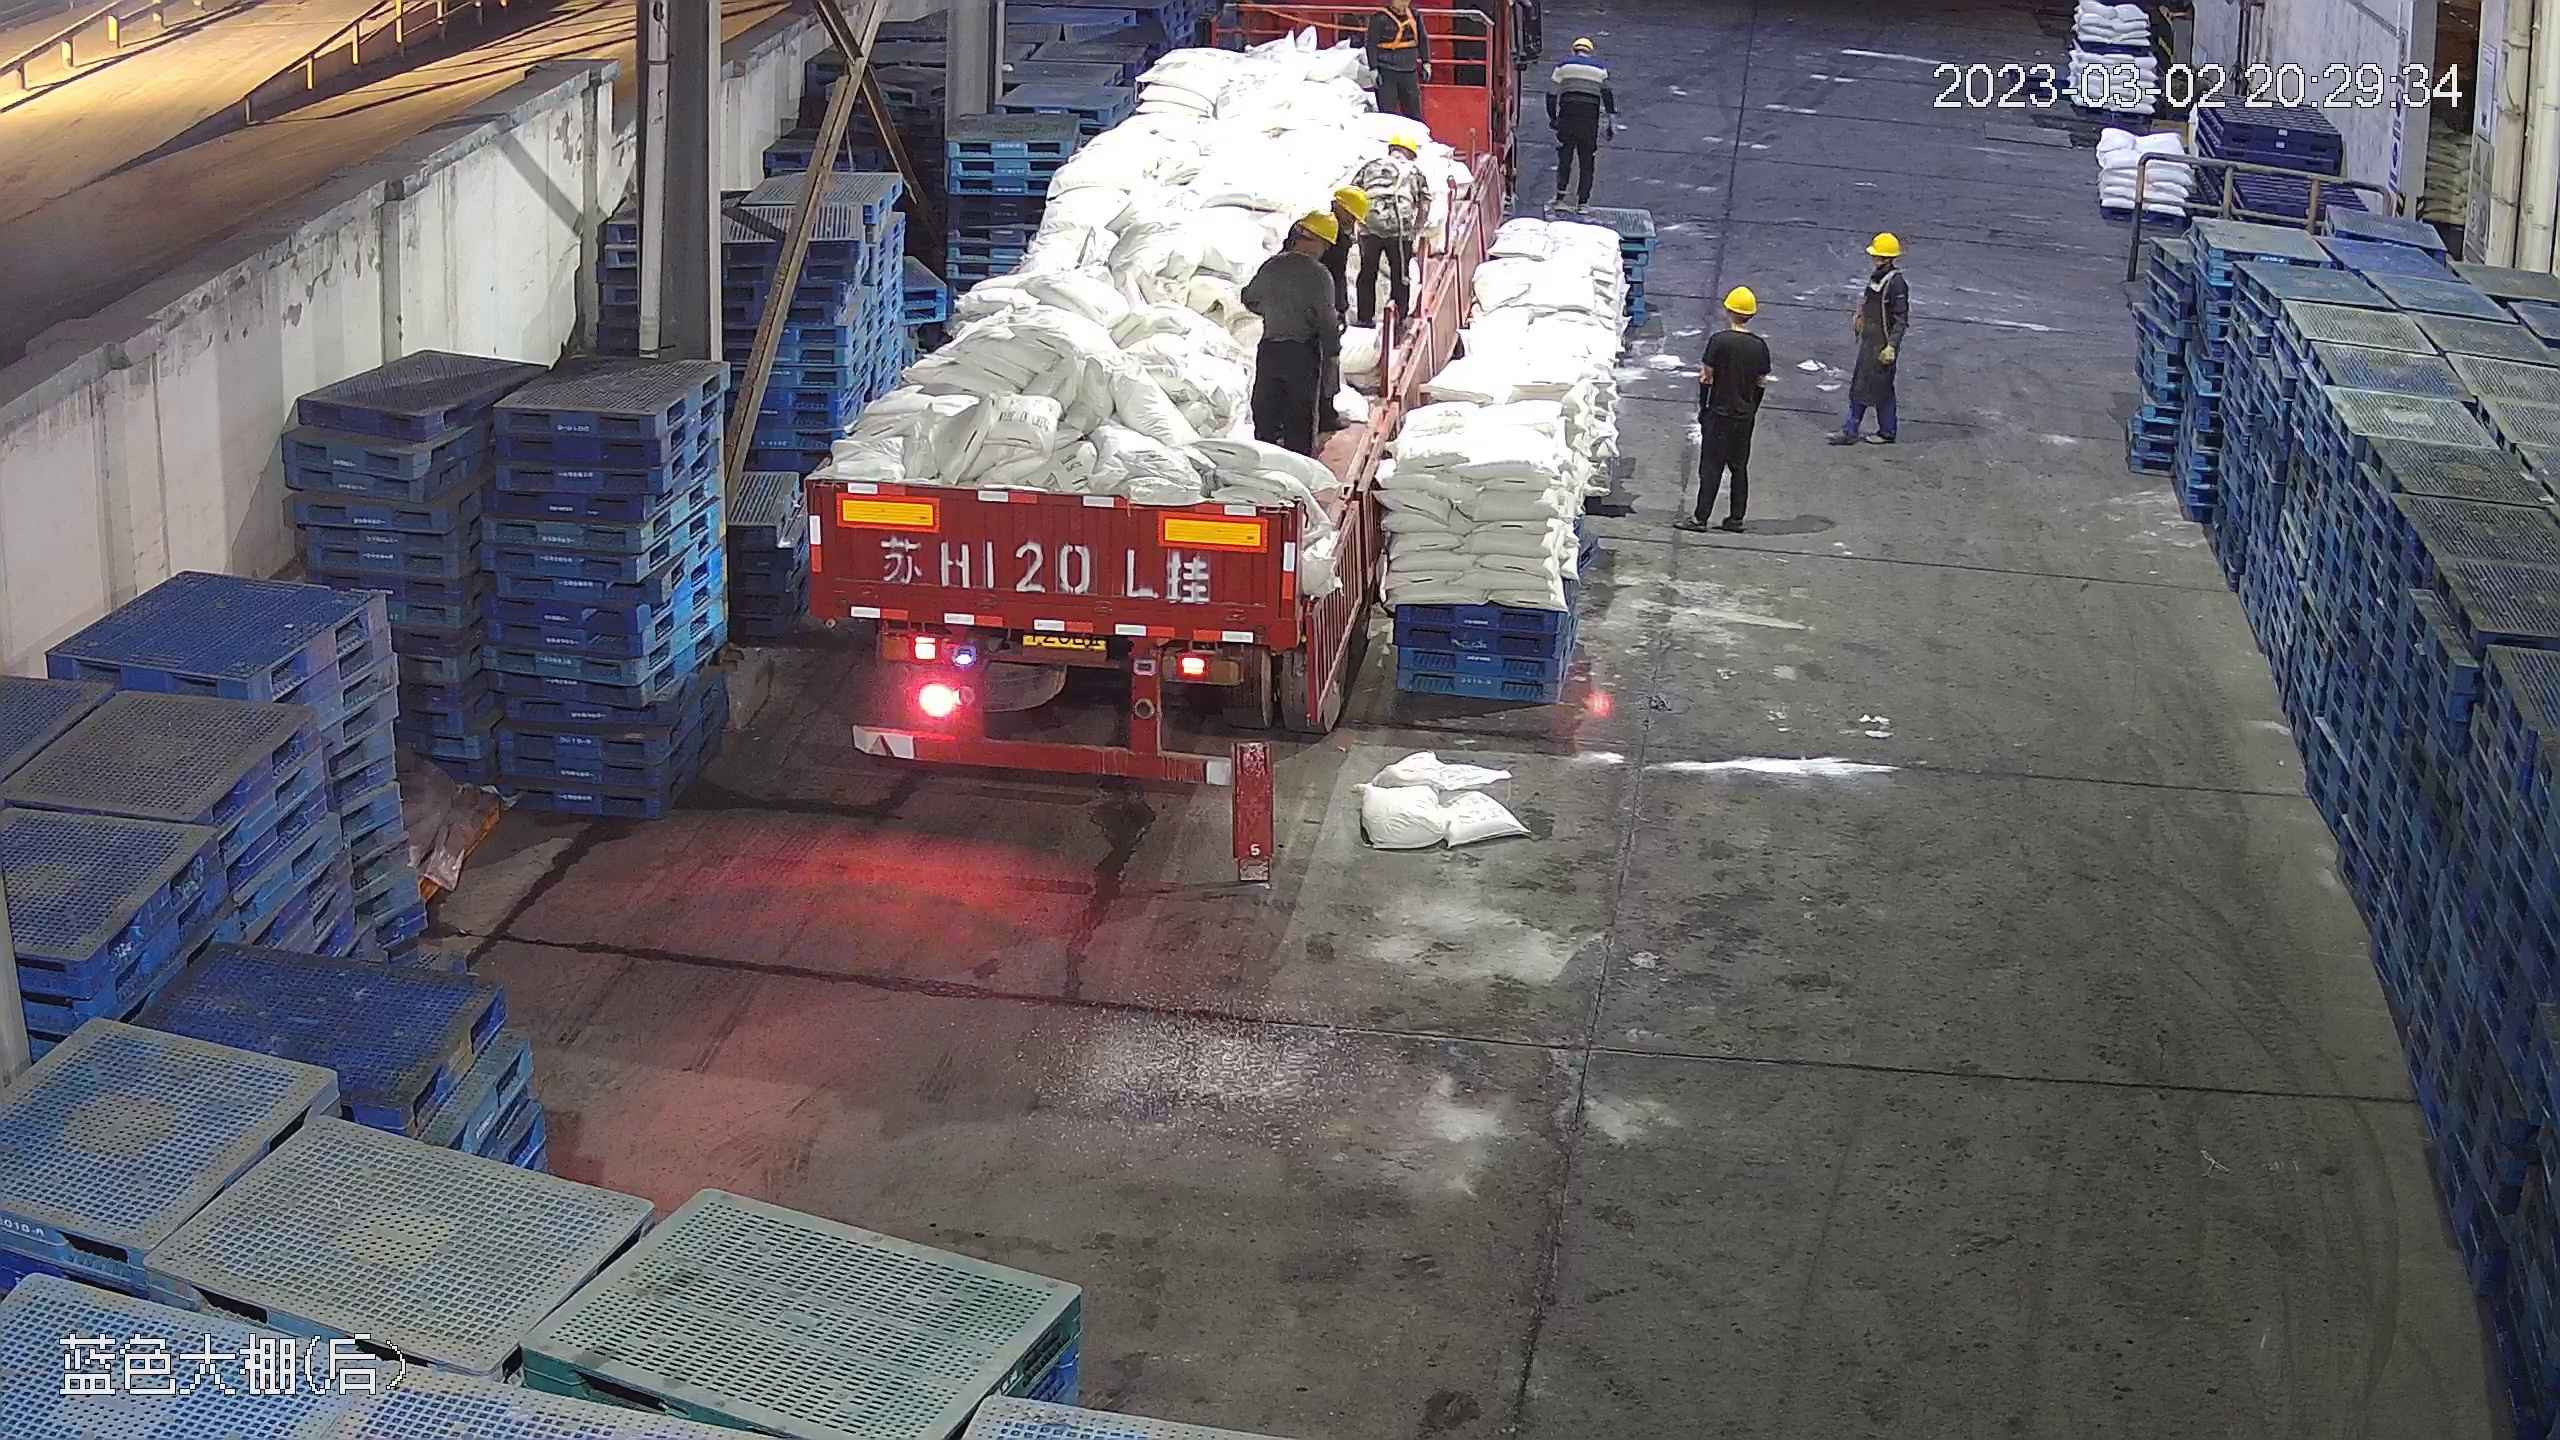belt: (1370, 153, 1421, 207), (1371, 4, 1422, 51), (1866, 261, 1900, 295)
head: (1257, 204, 1344, 290), (1702, 284, 1773, 361), (1355, 124, 1428, 192), (1856, 230, 1910, 298), (1552, 38, 1604, 89)
helmet: (1329, 183, 1373, 229), (1297, 206, 1344, 245), (1719, 285, 1760, 313), (1866, 230, 1903, 256), (1389, 126, 1421, 150), (1571, 35, 1596, 53)
people: (1235, 205, 1344, 457), (1683, 281, 1776, 537), (1333, 135, 1427, 375), (1831, 228, 1910, 454), (1544, 32, 1611, 211), (1362, 1, 1437, 124)
truck: (797, 7, 1437, 782)
